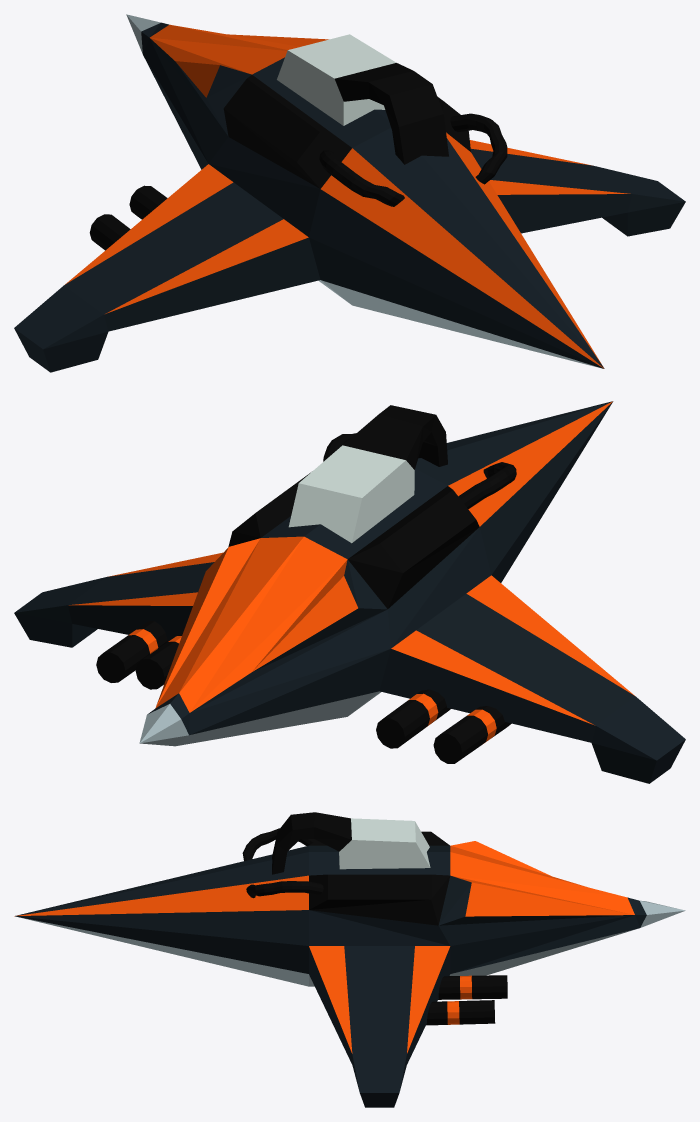
The model's file is spaceShip.fbx.
3 views of the same model, one above another, from view 1: azimuth 30°, elevation 25°; view 2: azimuth 150°, elevation 25°; view 3: azimuth 270°, elevation 25° (orthographic). The views are drawn at different scales.
Visible parts, largest first — view 1: default; view 2: default; view 3: default.
Boxes of the visible parts, x1,y1,x2,y2 form: default: (14,14,685,372); default: (14,401,685,783); default: (14,812,685,1107).
Size of the model in its own units: 0.4442 by 0.1684 by 0.5697.
